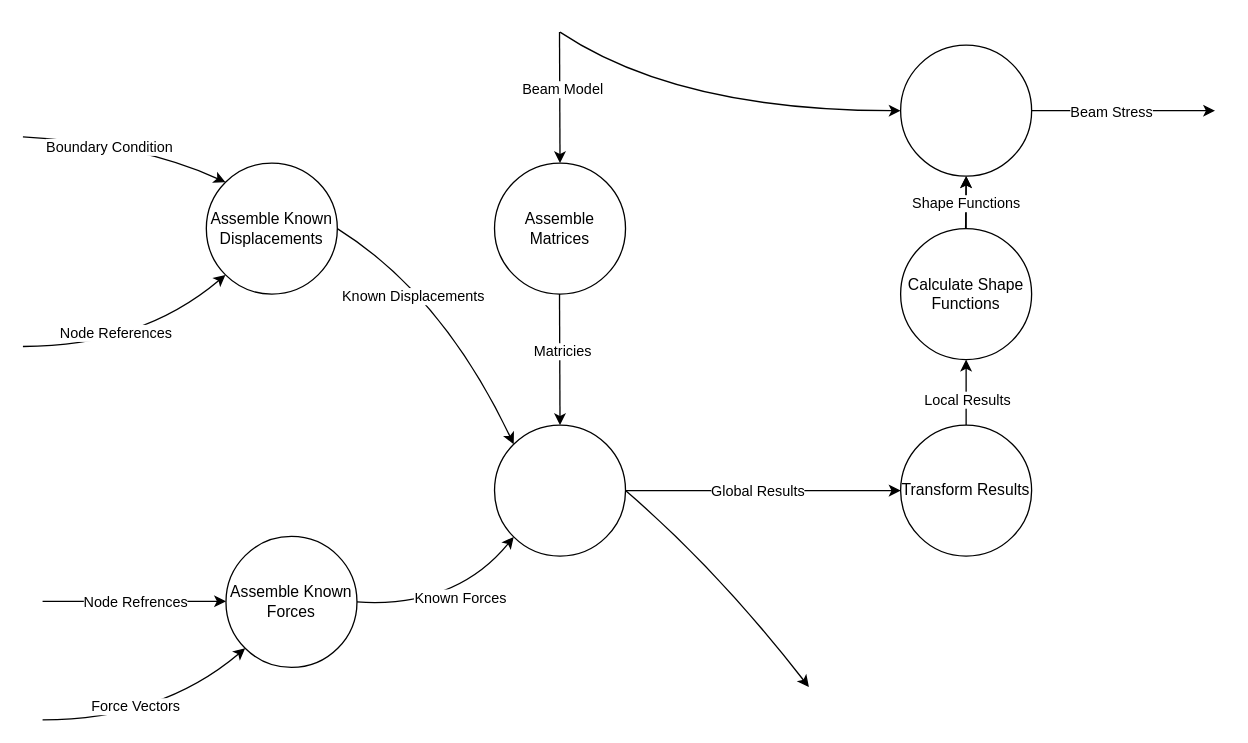
Some shapes in this 1248 by 743 pixel diagram are drawn without their labels. Each missing label, with the centre of its shape:
"Calculate Stress" goes at point (965, 110).
"Solve Static System" goes at point (559, 490).
